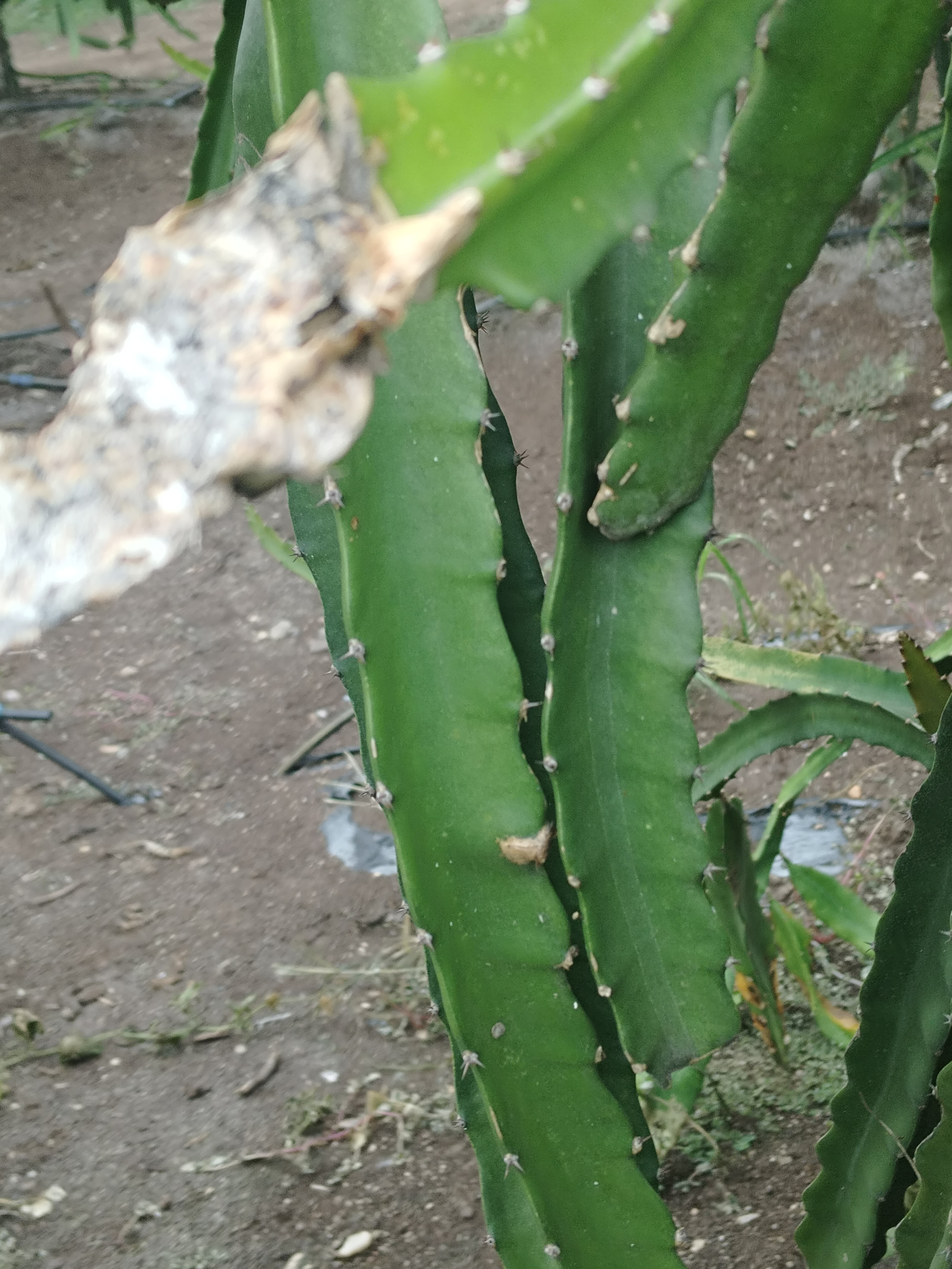stemcanker: (0, 69, 492, 663)
